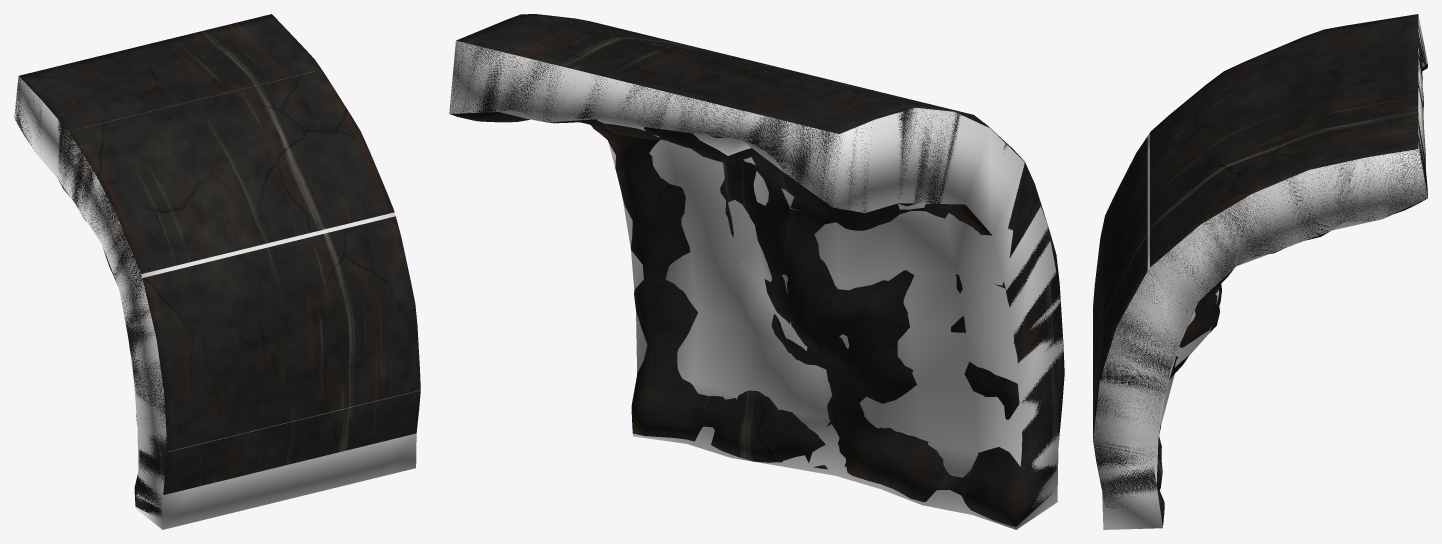
The model's file is CAVE_Wall_B.fbx.
3 renders of one model, left to right at view 1: azimuth 30°, elevation 25°; view 2: azimuth 150°, elevation 25°; view 3: azimuth 270°, elevation 25°, orthographic. The views are drawn at different scales.
Visible parts, largest first — view 1: CAVE_Wall_B_LOD0, CAVE_Wall_B_COL; view 2: CAVE_Wall_B_LOD0, CAVE_Wall_B_COL; view 3: CAVE_Wall_B_LOD0, CAVE_Wall_B_COL.
Part boxes in pixels (bbox=[...]): CAVE_Wall_B_LOD0: bbox=[14, 14, 420, 517]; CAVE_Wall_B_COL: bbox=[14, 72, 419, 529]; CAVE_Wall_B_LOD0: bbox=[449, 14, 1064, 526]; CAVE_Wall_B_COL: bbox=[449, 40, 1063, 529]; CAVE_Wall_B_LOD0: bbox=[1093, 14, 1427, 525]; CAVE_Wall_B_COL: bbox=[1093, 15, 1427, 529].
Size of what is drawn, in the model's own units: 6.18 by 8.13 by 6.47.
